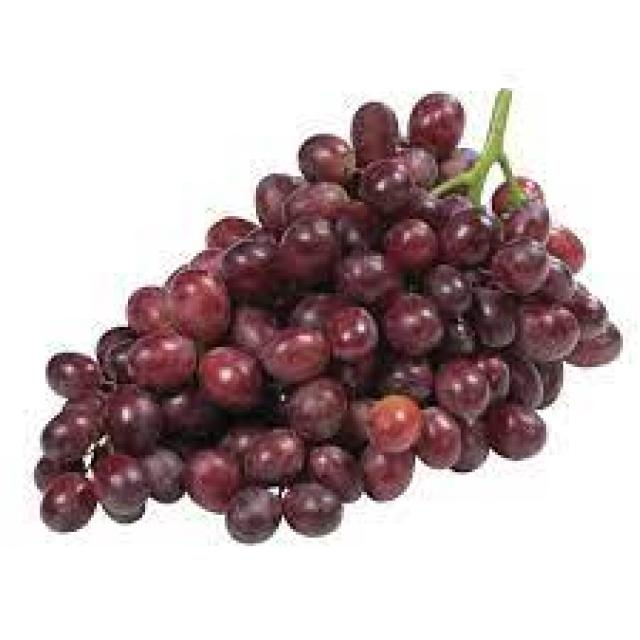grape: (26, 74, 628, 555)
